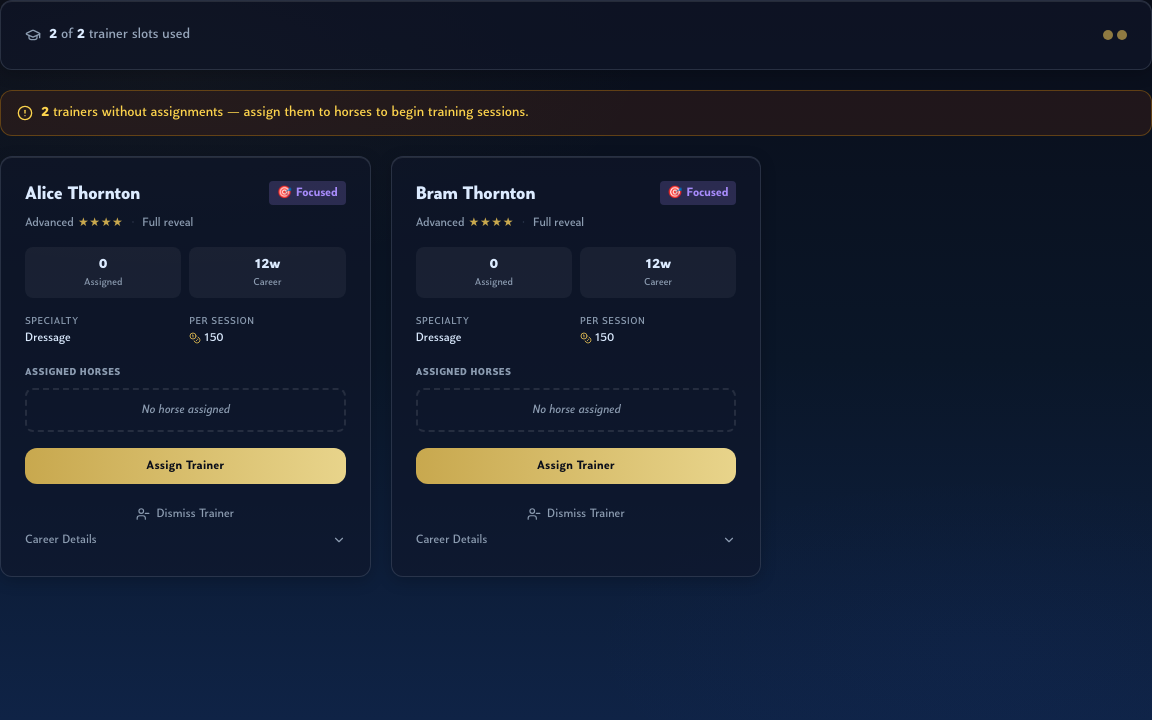
Test case: MyTrainersDashboard — dismiss a trainer (Equoria-oey96.71) › a failed dismissal keeps the trainer and says so at the card, without the raw server text
Click the button "Dismiss Trainer" below "Alice": (185, 514) [25,500,346,528]
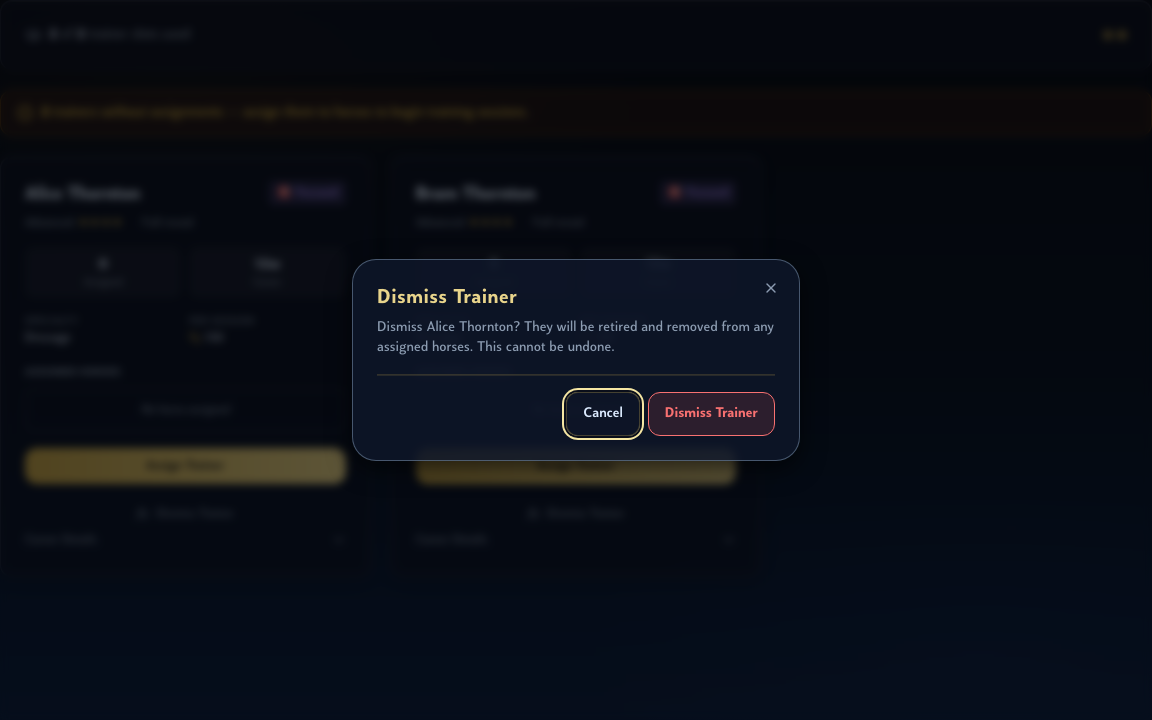
Click the button "Dismiss Trainer": (711, 414) [648,392,775,436]
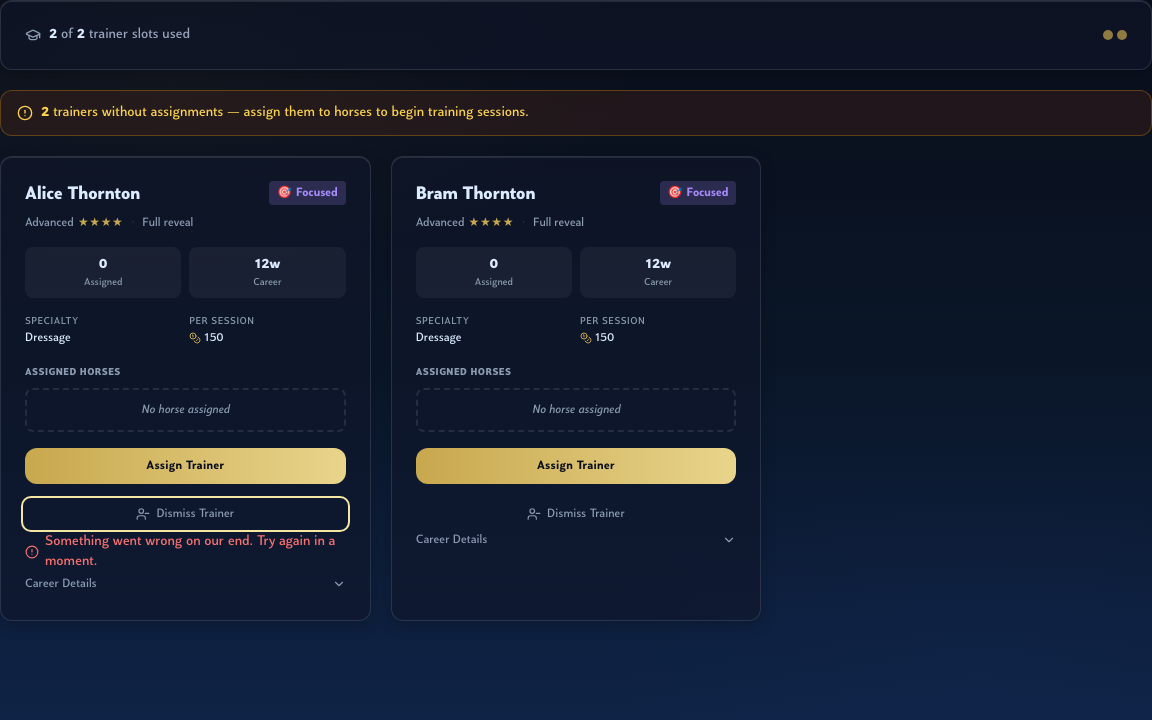
Check: the element with test id "trainer-card-10" is shown, box [0,156,371,621]
Check: the message shows "Something went wrong on our end", box [45,534,335,569]
